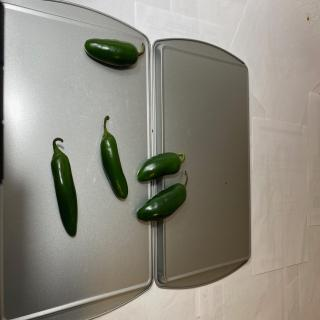Tomato: (136, 170, 188, 222), (51, 138, 78, 238), (100, 115, 128, 201), (84, 38, 145, 67), (137, 152, 185, 182)
